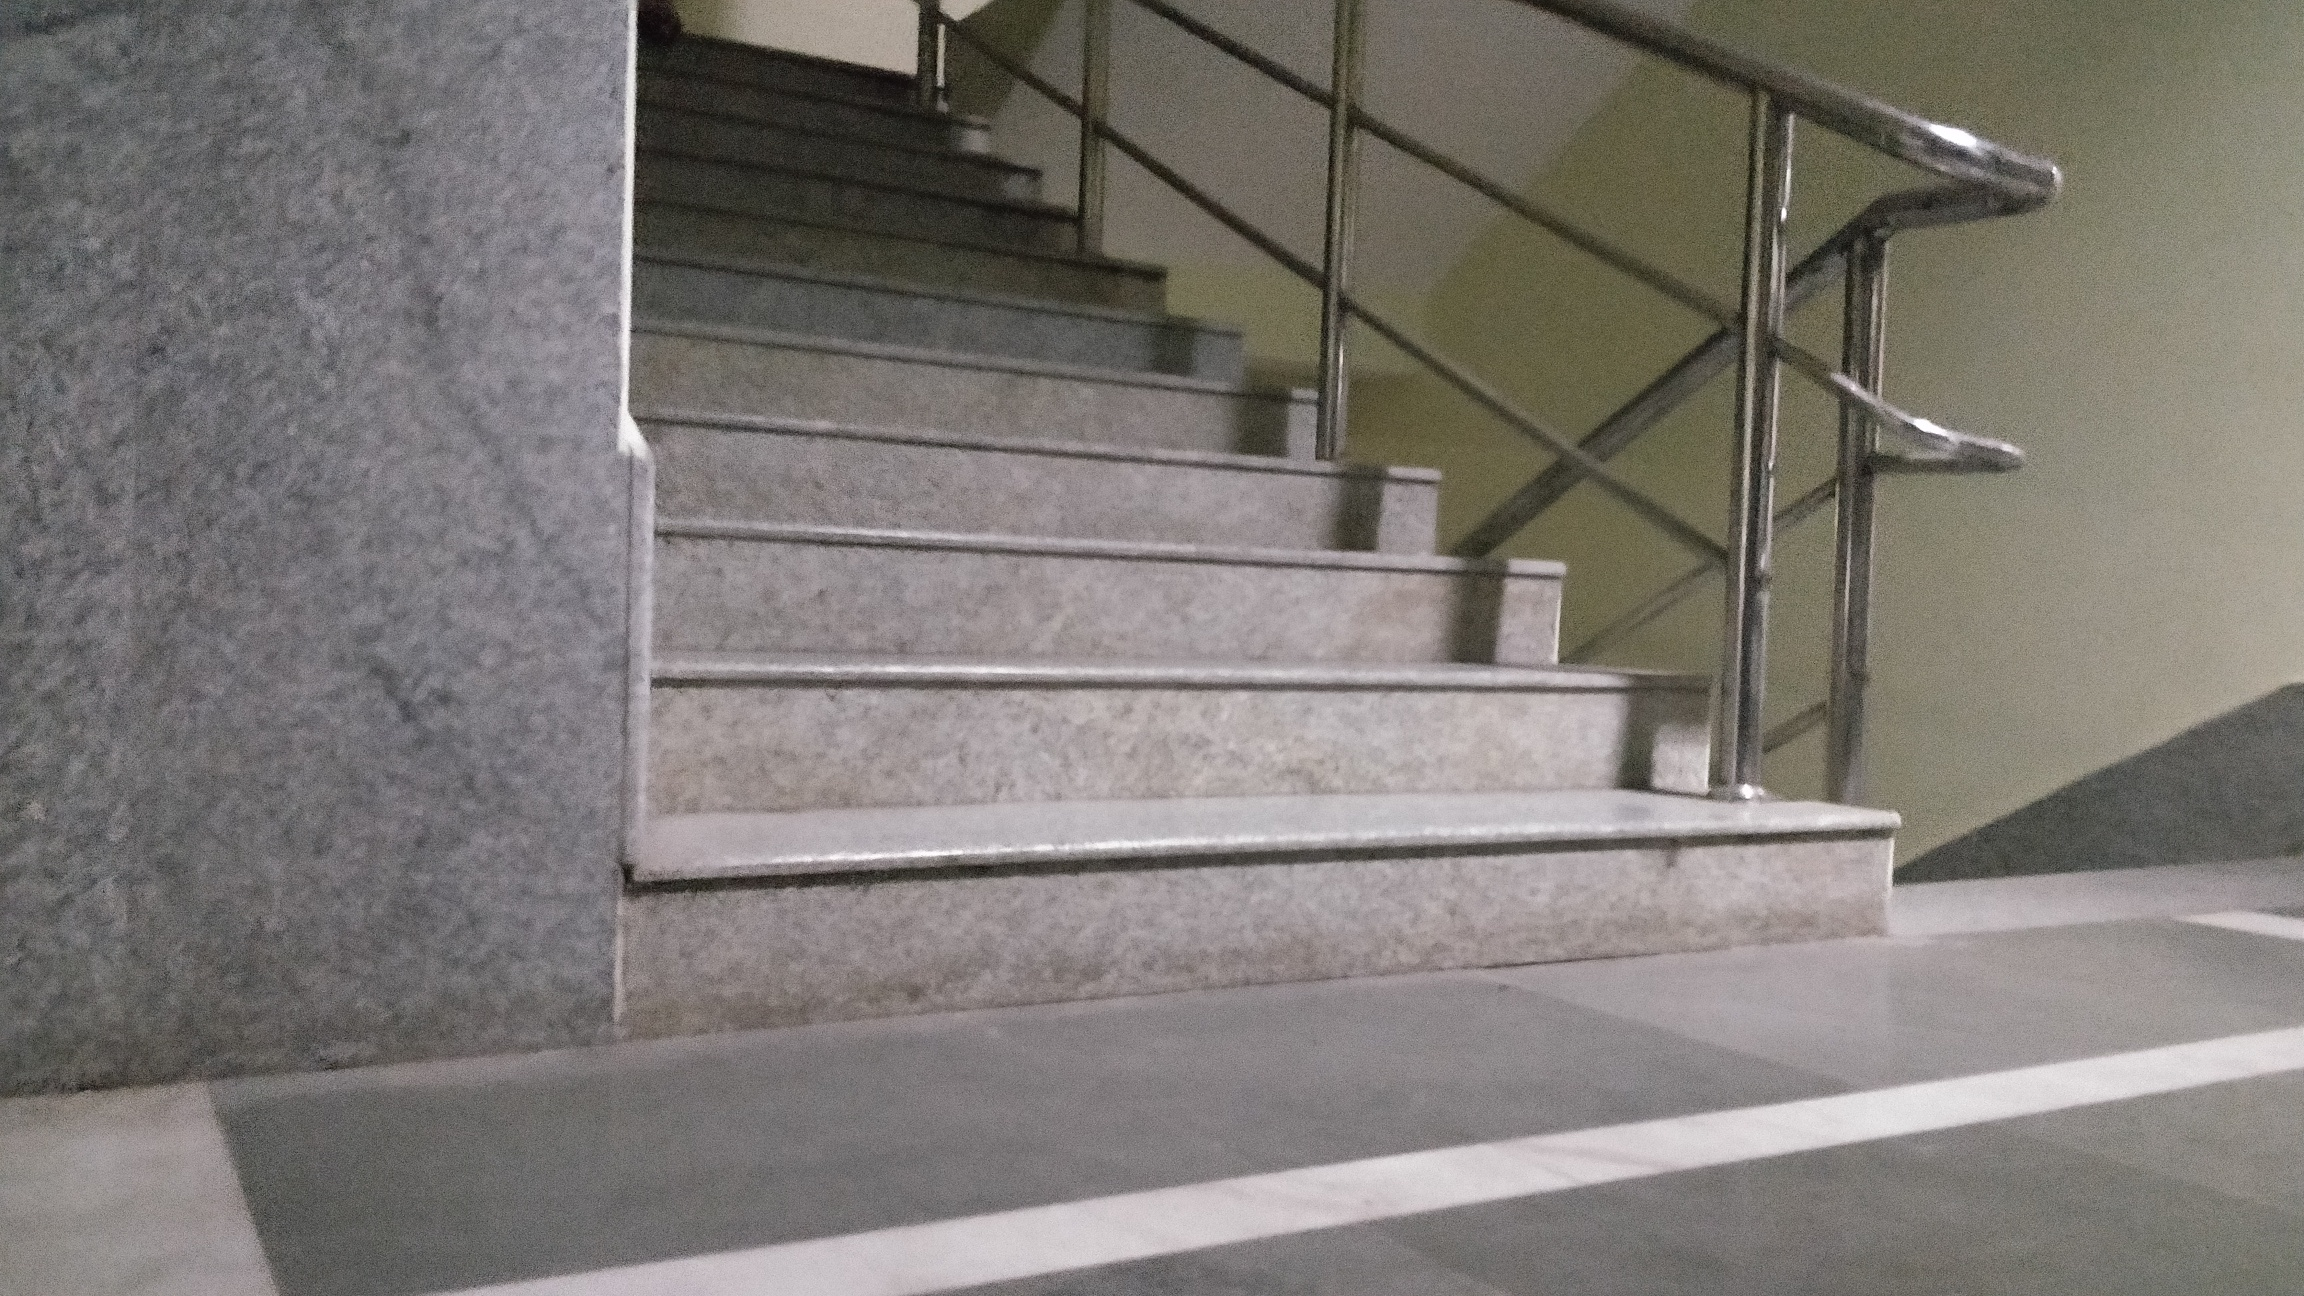stairs_up: (639, 17, 1820, 984)
